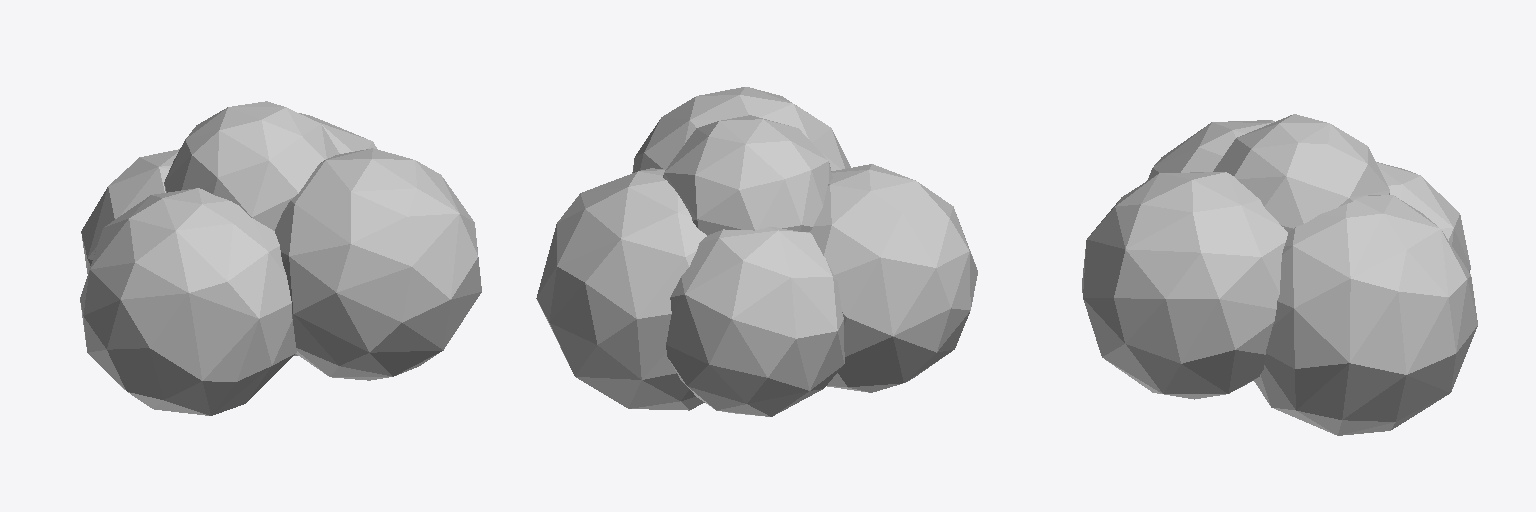
The model's file is tree_leaves.obj.
3 views of the same model, side by side, from view 1: azimuth 30°, elevation 25°; view 2: azimuth 150°, elevation 25°; view 3: azimuth 270°, elevation 25° (orthographic).
Parts seen in each view (by area): view 1: Sphere.003; view 2: Sphere.003; view 3: Sphere.003.
Part boxes in pixels (bbox=[...]): Sphere.003: bbox=[80, 101, 481, 415]; Sphere.003: bbox=[536, 87, 977, 416]; Sphere.003: bbox=[1082, 114, 1477, 435].
Bounding box in the file's own units: 25.96 × 18.87 × 25.06.